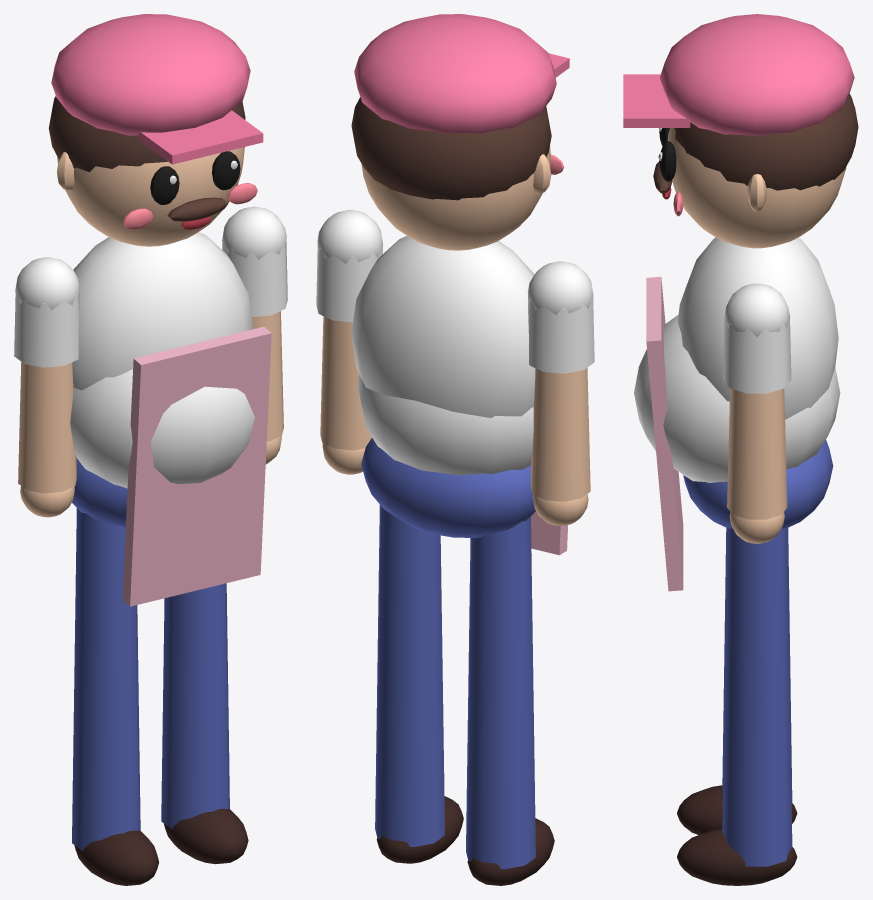
Rendered from interiors_icecream.glb.
3 renders of one model, left to right at view 1: azimuth 30°, elevation 25°; view 2: azimuth 150°, elevation 25°; view 3: azimuth 270°, elevation 25°, orthographic.
Parts seen in each view (by area): view 1: Body.007, Leg_R.007, Leg_L.007, Arm_R.007, Arm_L.007; view 2: Body.007, Leg_R.007, Leg_L.007, Arm_R.007, Arm_L.007; view 3: Body.007, Leg_L.007, Arm_L.007, Leg_R.007.
Part boxes in pixels (box(x1,y1,x2,y2)): Body.007: box(48, 14, 271, 606); Leg_R.007: box(72, 508, 159, 885); Leg_L.007: box(161, 583, 248, 864); Arm_R.007: box(14, 257, 79, 517); Arm_L.007: box(222, 206, 287, 464); Body.007: box(351, 14, 569, 555); Leg_R.007: box(466, 516, 554, 885); Leg_L.007: box(375, 504, 463, 863); Arm_R.007: box(527, 261, 594, 525); Arm_L.007: box(316, 210, 383, 474); Body.007: box(623, 14, 858, 591); Leg_L.007: box(677, 527, 797, 885); Arm_L.007: box(723, 283, 791, 543); Leg_R.007: box(677, 528, 797, 834).
Bounding box in the file's own units: 0.6052 × 1.82 × 0.4674.
